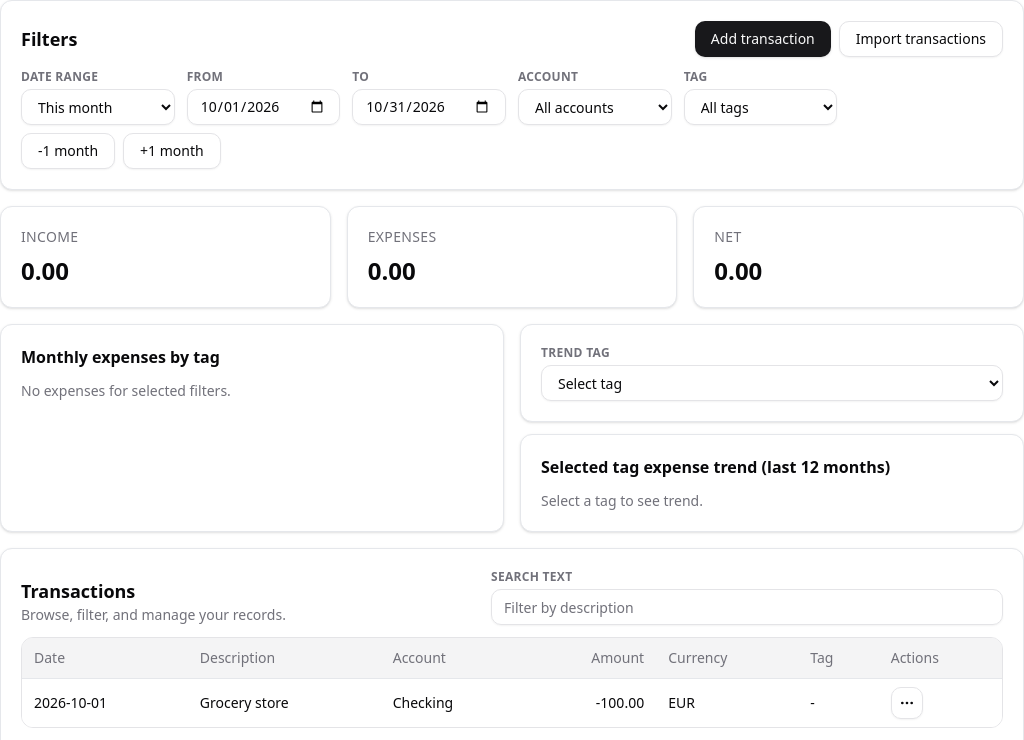
Test: TransactionsPage split dialog › keeps focus in the split amount field while typing
The width and height of the screenshot is (1024, 740).
Check: the text "Grocery store" is shown, box left=188, top=678, right=381, bottom=726
Click the button named "Open actions menu" at (907, 702), box left=891, top=686, right=923, bottom=718
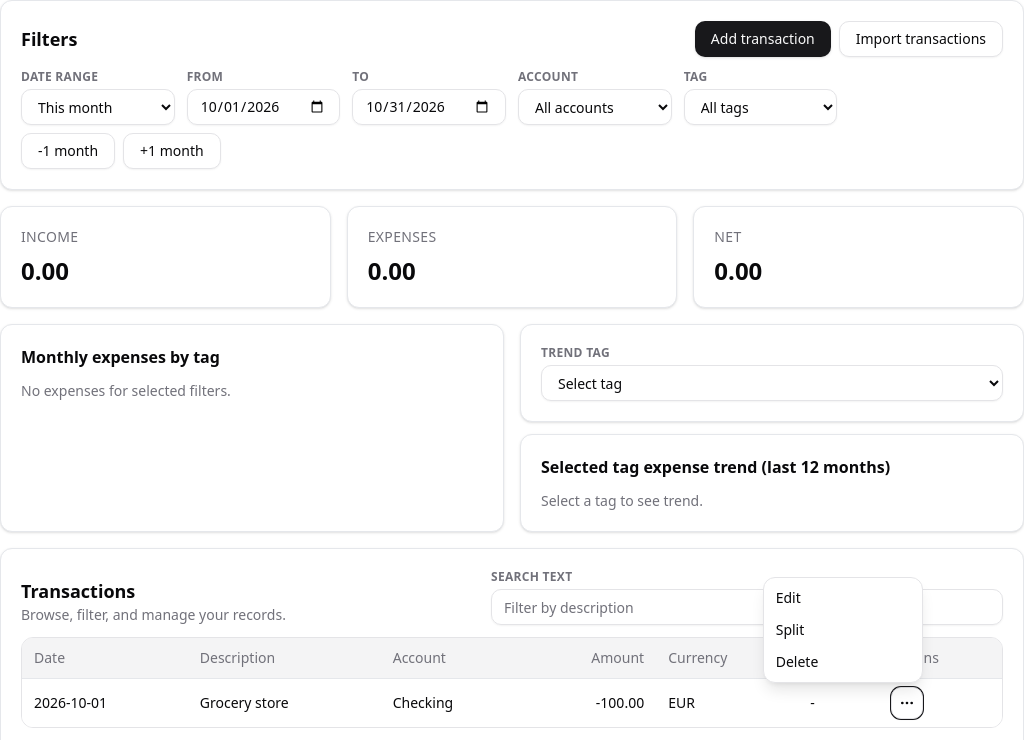
Click the button "Split" at (843, 630), box left=768, top=614, right=918, bottom=646
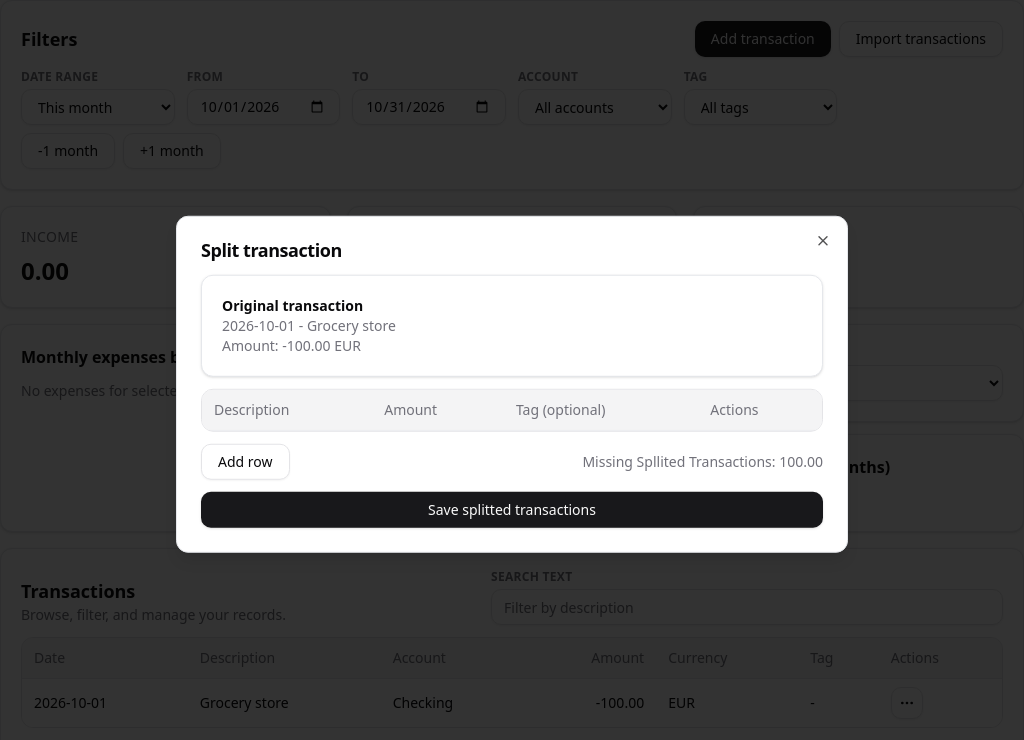
Click the button "Add row" at (245, 461), box left=201, top=443, right=290, bottom=479
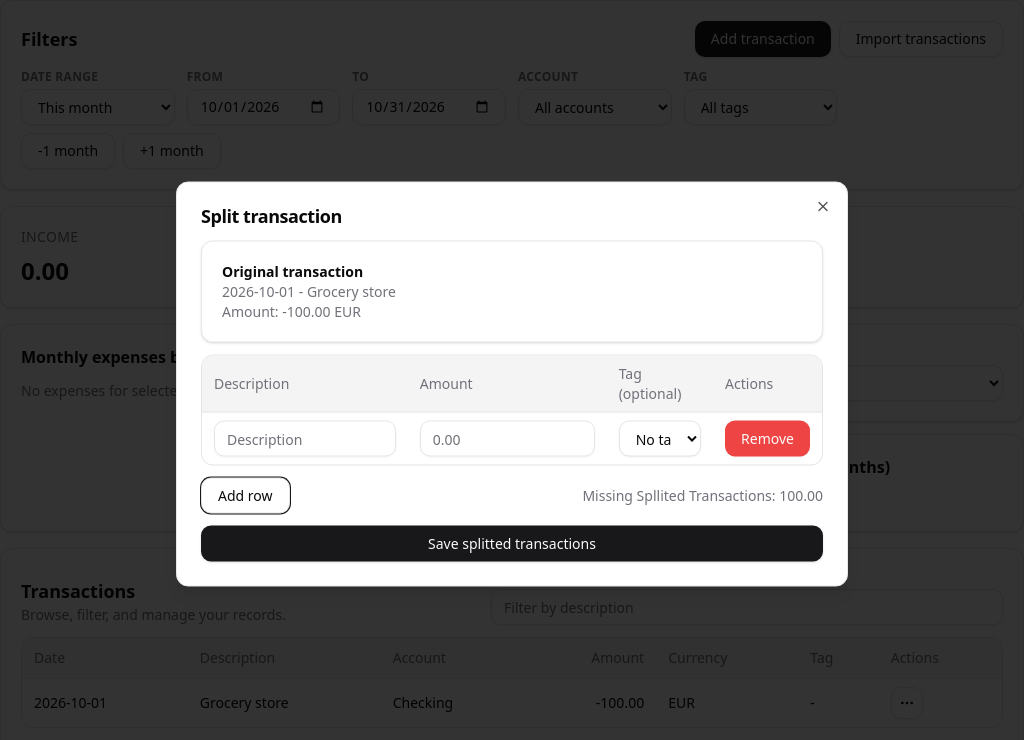
Type "12.50" into the field with placeholder "0.00" at (507, 438), box left=420, top=420, right=595, bottom=456
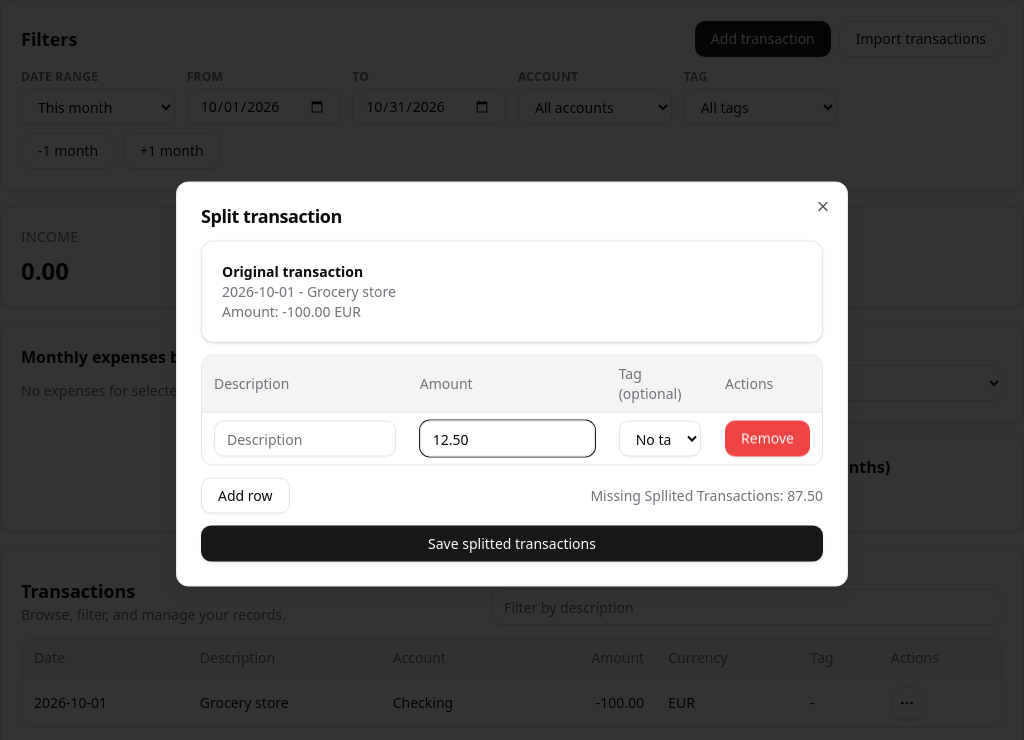
Check: the text "Missing Spllited Transactions: 87.50" is shown, box left=590, top=486, right=823, bottom=506
